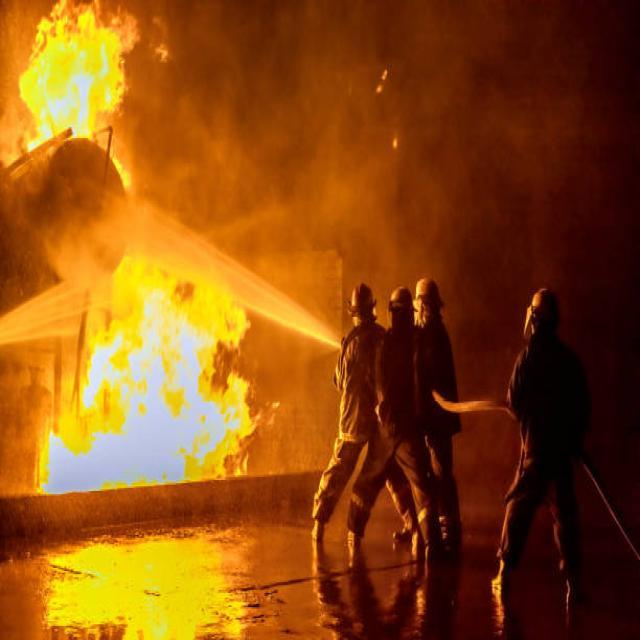Fire: (45, 286, 256, 506), (10, 6, 138, 174)
Smoke: (122, 0, 640, 245)
